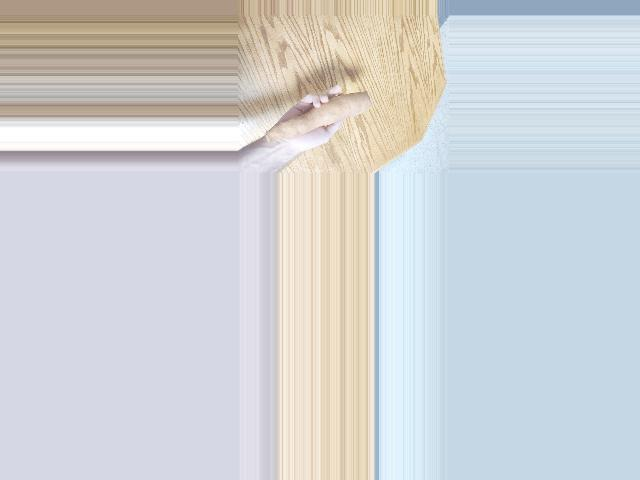sweet_potato: (261, 89, 371, 144)
